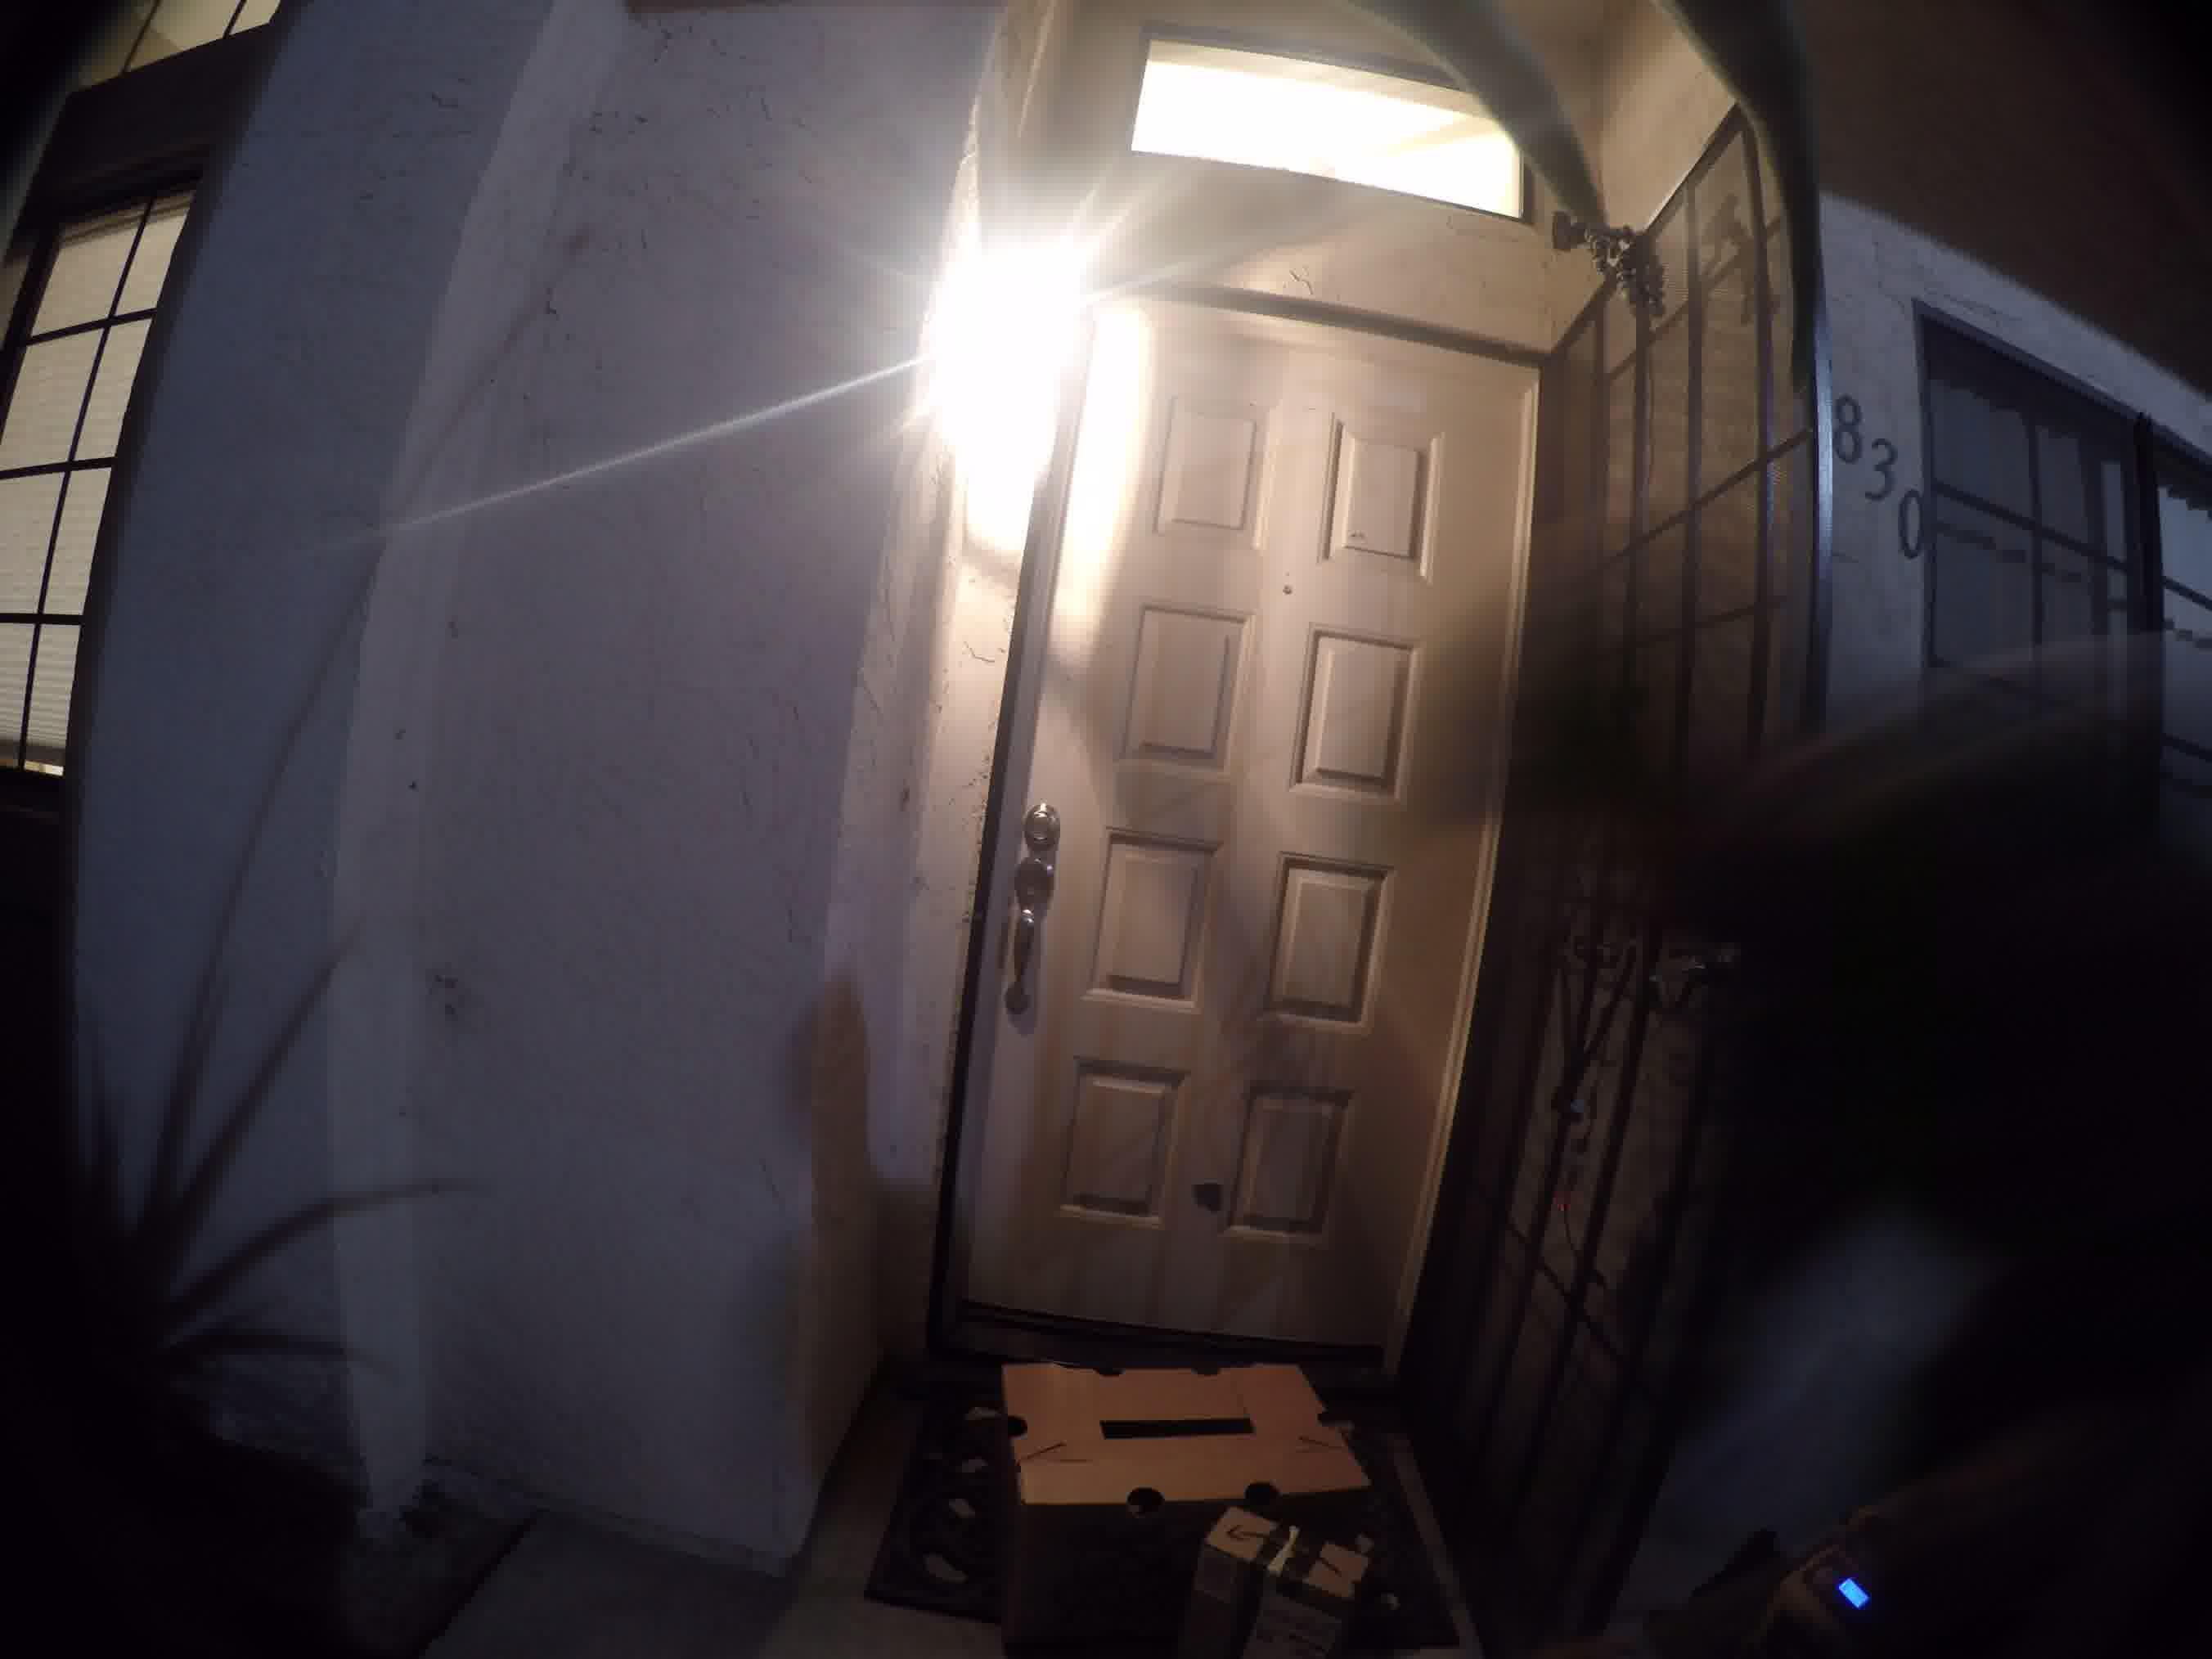box: (996, 1354, 1372, 1520)
